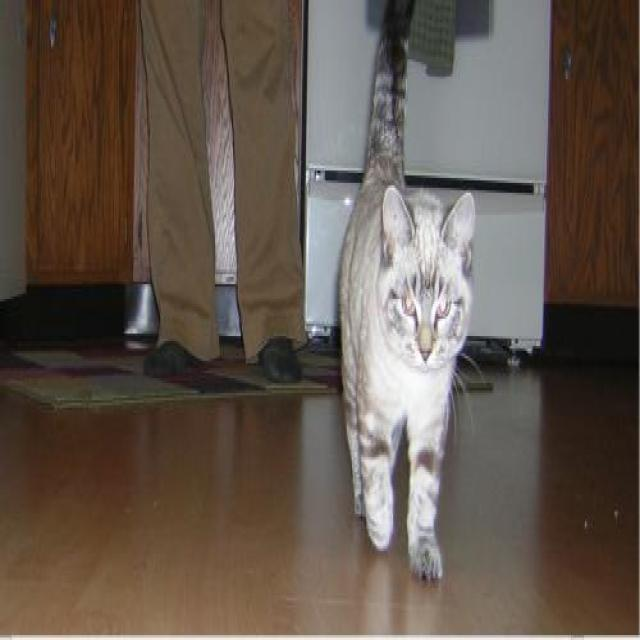Cats: (337, 0, 481, 581)
